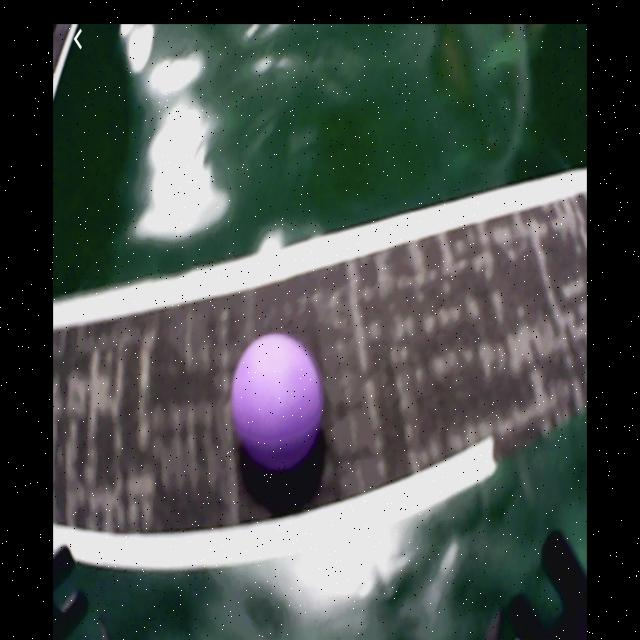ball: (236, 337, 322, 475)
